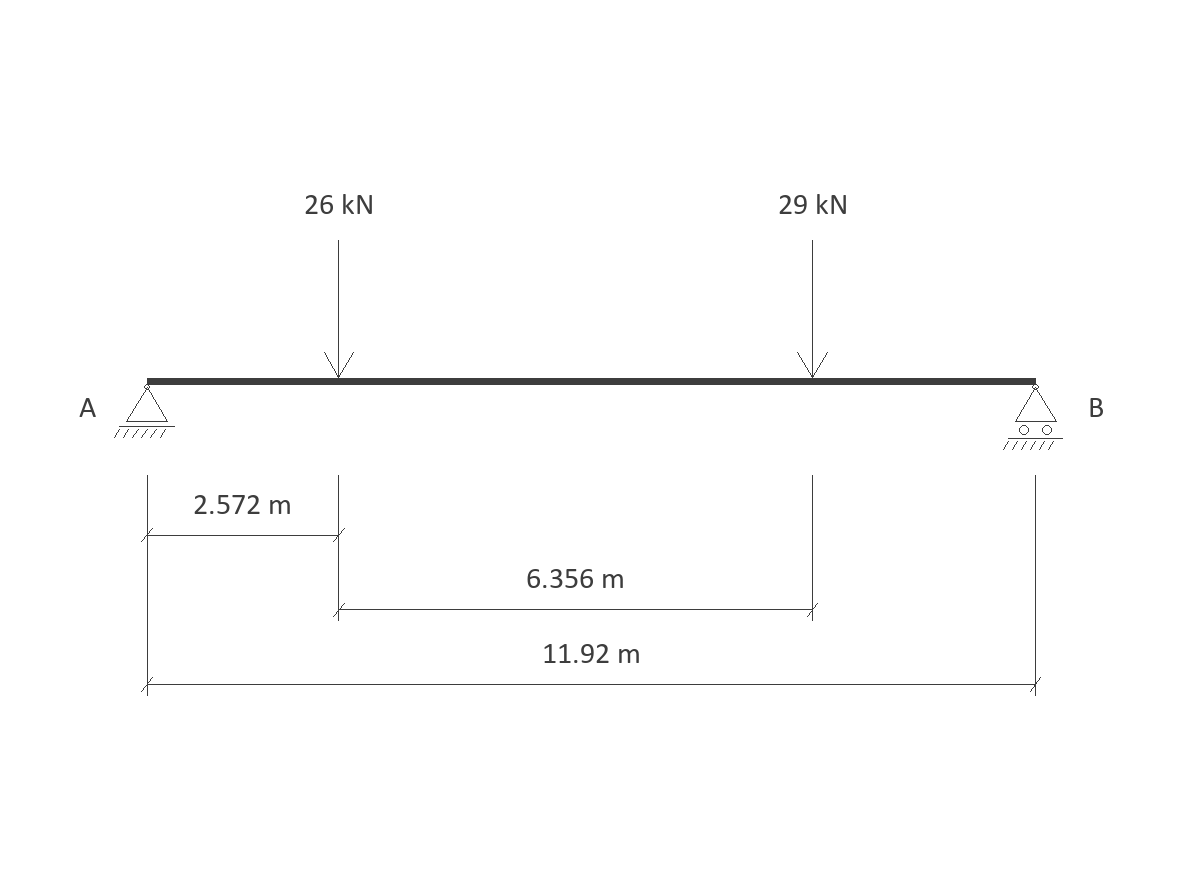pin_support: (114, 384, 175, 438)
point_load: (797, 240, 828, 378), (324, 240, 354, 378)
roller_support: (1003, 384, 1063, 450)
